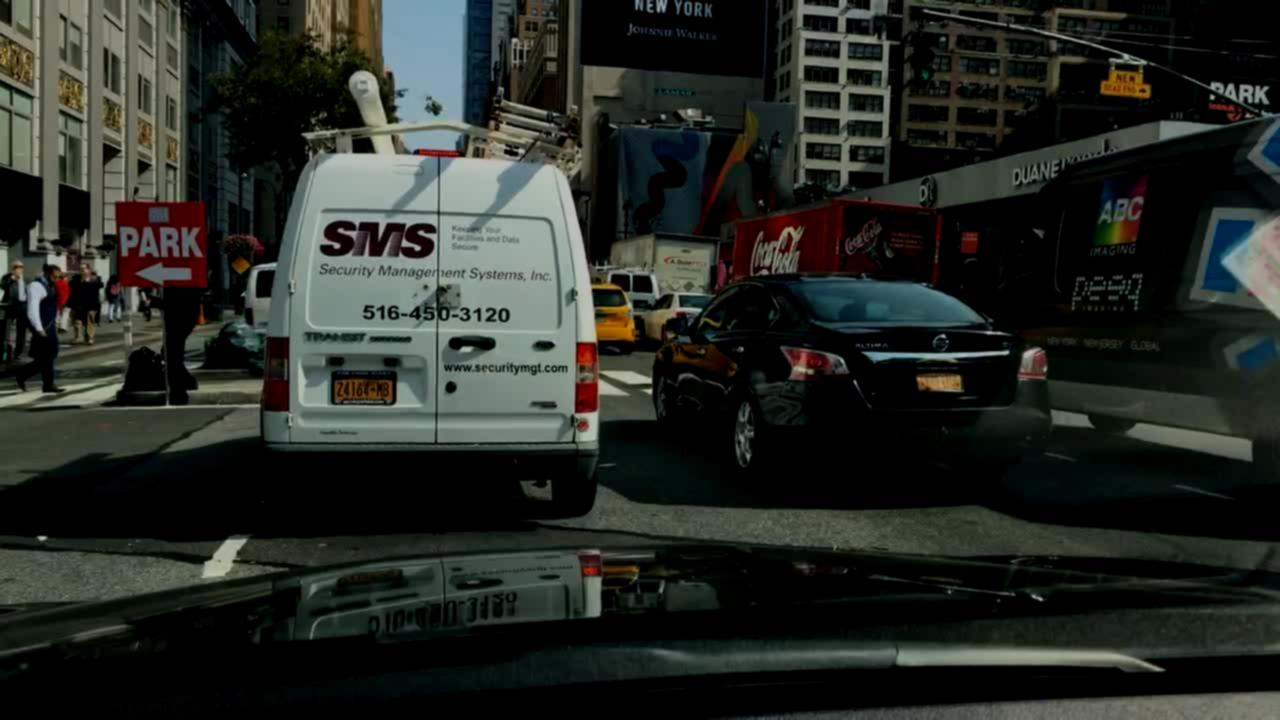Nissan: (927, 327, 963, 361)
ford: (530, 336, 558, 357)
